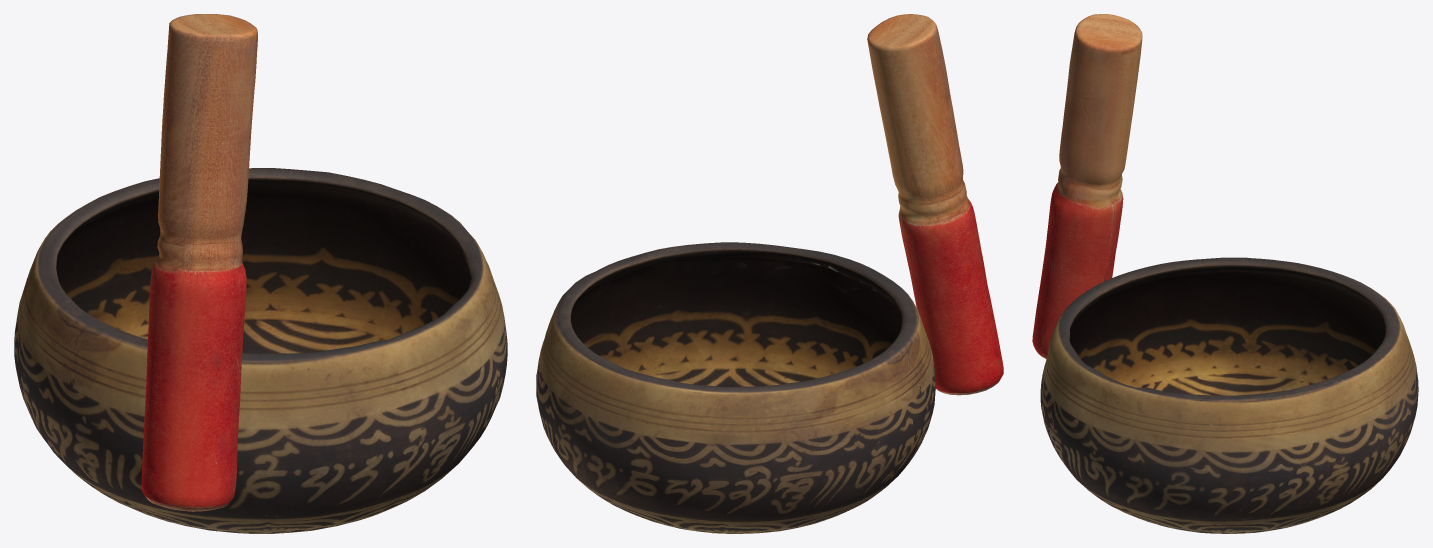
The model's file is singing_nepali_bowl.glb.
The picture shows the model from 3 angles, left to right: view 1: azimuth 30°, elevation 25°; view 2: azimuth 150°, elevation 25°; view 3: azimuth 270°, elevation 25°; orthographic projection. The views are drawn at different scales.
Parts seen in each view (by area): view 1: LP, LP.001; view 2: LP, LP.001; view 3: LP, LP.001.
Part boxes in pixels (<box>): LP: <box>14,168,507,533</box>; LP.001: <box>141,14,257,511</box>; LP: <box>536,242,935,533</box>; LP.001: <box>867,14,1003,395</box>; LP: <box>1040,257,1418,533</box>; LP.001: <box>1032,14,1142,359</box>.
Bounding box in the file's own units: 110 × 135 × 111.
Materials: 2 (2 with a texture image).
